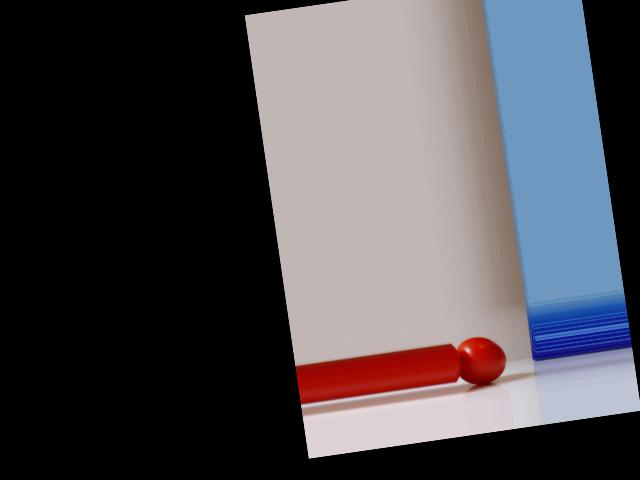tomato: (455, 333, 509, 387)
